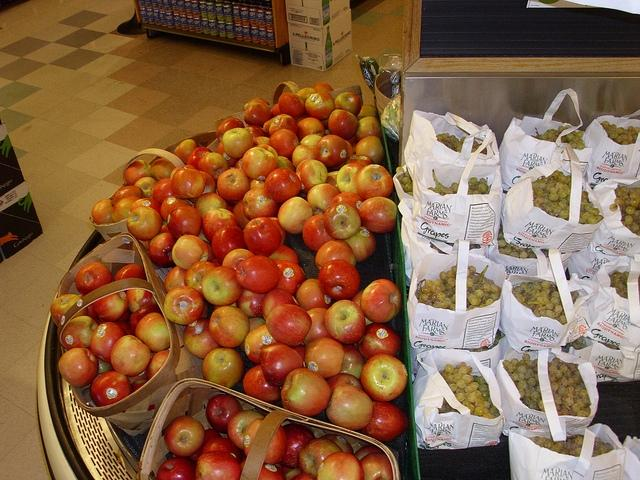apple: (280, 368, 332, 416), (360, 354, 408, 402), (326, 384, 374, 430), (243, 418, 288, 464), (258, 343, 304, 386), (266, 304, 311, 347), (360, 278, 402, 324), (361, 401, 408, 442), (163, 414, 206, 458), (324, 300, 366, 344), (318, 259, 361, 301), (298, 437, 343, 476), (58, 347, 100, 388), (210, 305, 250, 348), (110, 335, 150, 378), (278, 424, 316, 469), (163, 285, 204, 326), (202, 348, 244, 388), (303, 338, 345, 378), (201, 266, 243, 306), (236, 256, 280, 294), (358, 323, 403, 360), (90, 321, 128, 364), (243, 364, 282, 405), (244, 216, 282, 258), (184, 318, 222, 359), (90, 370, 132, 406), (211, 226, 250, 264), (206, 394, 243, 434), (228, 410, 264, 451), (134, 312, 170, 352), (324, 203, 362, 240), (359, 197, 397, 234), (316, 451, 364, 480), (264, 168, 302, 204), (244, 324, 278, 364), (196, 451, 242, 480), (277, 197, 313, 234), (356, 164, 394, 199), (184, 261, 218, 300), (261, 288, 302, 320), (172, 234, 208, 270), (61, 316, 99, 350), (302, 214, 336, 252), (295, 278, 333, 312), (342, 226, 377, 262), (202, 208, 238, 243), (316, 240, 356, 271), (127, 206, 163, 240), (242, 147, 278, 181), (243, 187, 280, 220), (50, 294, 88, 326), (76, 262, 112, 295), (302, 308, 332, 346), (316, 134, 349, 168), (167, 206, 201, 239), (296, 159, 328, 194), (217, 169, 251, 201), (306, 184, 340, 216), (171, 167, 205, 199), (148, 232, 178, 268), (276, 260, 306, 295), (198, 152, 230, 184), (93, 293, 129, 321), (200, 438, 242, 462), (222, 128, 254, 159), (236, 288, 268, 318), (268, 130, 300, 160), (304, 91, 336, 121), (187, 171, 216, 204), (336, 162, 364, 196), (328, 110, 359, 140), (156, 457, 198, 479), (194, 192, 228, 219), (239, 317, 265, 352), (130, 304, 160, 334), (360, 452, 392, 480), (339, 345, 364, 379), (355, 136, 385, 164), (160, 196, 192, 222), (330, 192, 364, 215), (130, 198, 164, 221), (126, 288, 156, 314), (268, 243, 300, 266), (112, 196, 140, 222), (244, 102, 272, 128), (124, 160, 152, 186), (222, 248, 255, 270), (334, 92, 362, 117), (147, 350, 170, 380), (318, 434, 352, 454), (112, 185, 146, 205), (279, 92, 305, 118), (296, 118, 324, 142), (113, 263, 148, 282), (356, 116, 381, 142), (217, 118, 244, 142), (292, 144, 319, 168), (338, 154, 375, 171), (174, 139, 198, 165), (164, 266, 187, 293), (270, 114, 298, 136), (152, 178, 174, 206), (187, 147, 213, 170), (150, 158, 176, 181), (232, 198, 250, 230), (91, 199, 114, 224), (134, 176, 158, 198), (354, 444, 385, 461), (253, 144, 278, 162), (259, 464, 285, 480), (96, 357, 115, 375), (276, 156, 296, 173), (244, 126, 268, 140), (325, 170, 339, 190), (300, 134, 322, 146), (130, 379, 148, 393), (296, 88, 317, 100), (284, 468, 302, 480), (314, 82, 334, 92), (253, 136, 269, 148), (292, 473, 316, 480), (250, 180, 266, 190), (272, 103, 282, 118), (235, 158, 242, 170)
grape: (555, 378, 568, 387), (588, 207, 600, 216), (462, 374, 472, 384), (469, 392, 478, 403), (456, 393, 466, 402), (558, 387, 566, 398), (550, 382, 559, 391), (527, 377, 536, 386), (549, 193, 559, 201), (441, 133, 451, 141), (558, 201, 566, 210), (448, 278, 456, 287), (609, 131, 618, 139), (625, 215, 633, 224), (475, 283, 485, 290), (564, 442, 572, 450), (504, 246, 512, 254), (574, 448, 582, 456), (540, 290, 548, 298), (472, 390, 482, 396), (624, 132, 634, 138), (484, 284, 491, 292), (556, 441, 564, 448), (564, 188, 572, 195), (624, 198, 632, 205), (445, 291, 454, 297), (469, 178, 478, 184), (402, 178, 411, 184), (553, 170, 560, 177), (542, 191, 550, 197), (544, 184, 552, 190), (532, 182, 538, 190), (582, 191, 588, 199), (616, 137, 622, 144), (618, 282, 624, 289), (623, 204, 631, 209), (452, 184, 458, 190), (461, 137, 466, 143), (450, 140, 456, 144), (546, 129, 550, 132), (554, 136, 557, 140), (544, 132, 548, 134)
